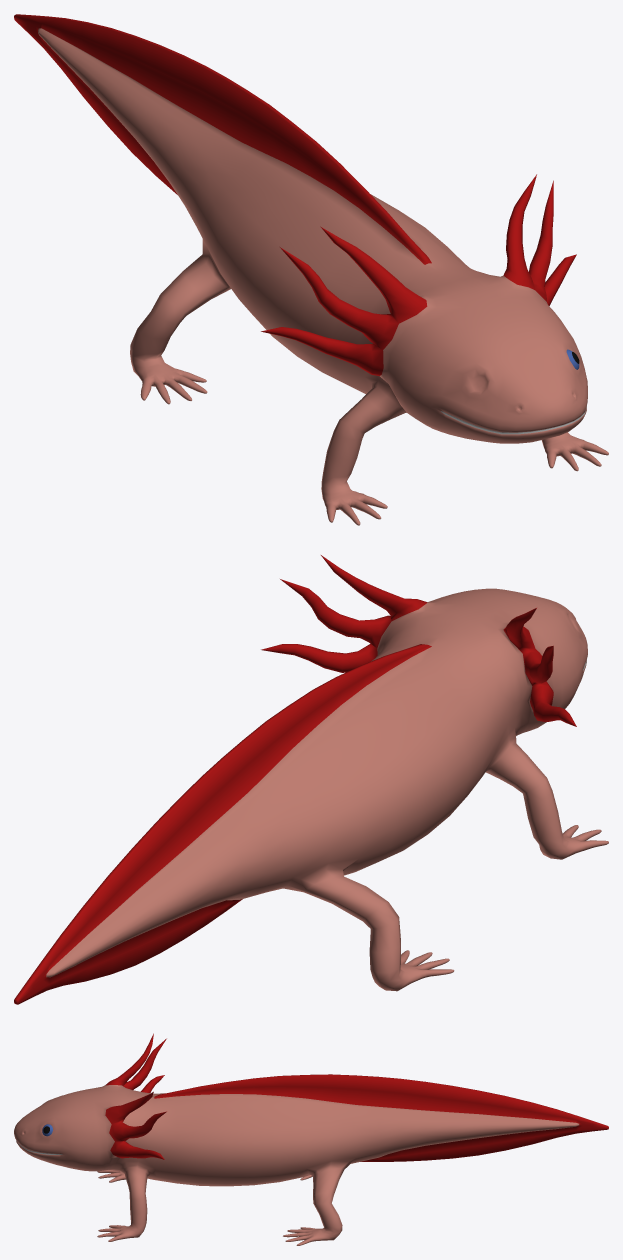
The model's file is axolotl.obj.
The picture shows the model from 3 angles, top to bottom: view 1: azimuth 30°, elevation 25°; view 2: azimuth 150°, elevation 25°; view 3: azimuth 270°, elevation 25°; orthographic projection. The views are drawn at different scales.
Visible parts, largest first — view 1: axolotl; view 2: axolotl; view 3: axolotl.
Part boxes in pixels (box(x1,y1,x2,y2)): axolotl: box(14, 14, 608, 525); axolotl: box(14, 555, 608, 1004); axolotl: box(14, 1033, 608, 1245).
Size of the model in its own units: 0.0823 by 0.0644 by 0.243.
